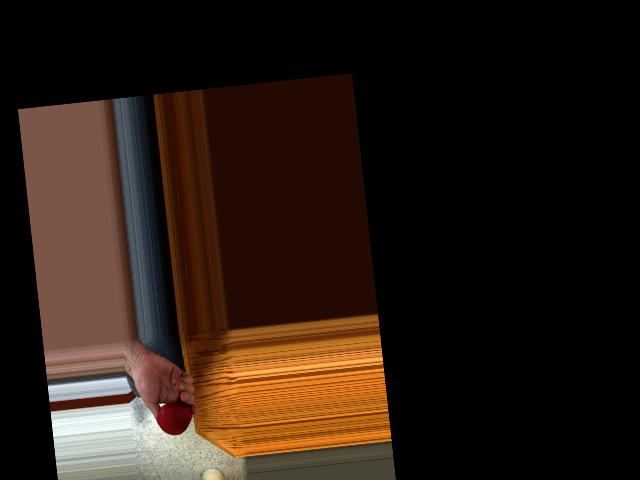apple: (151, 396, 194, 438)
